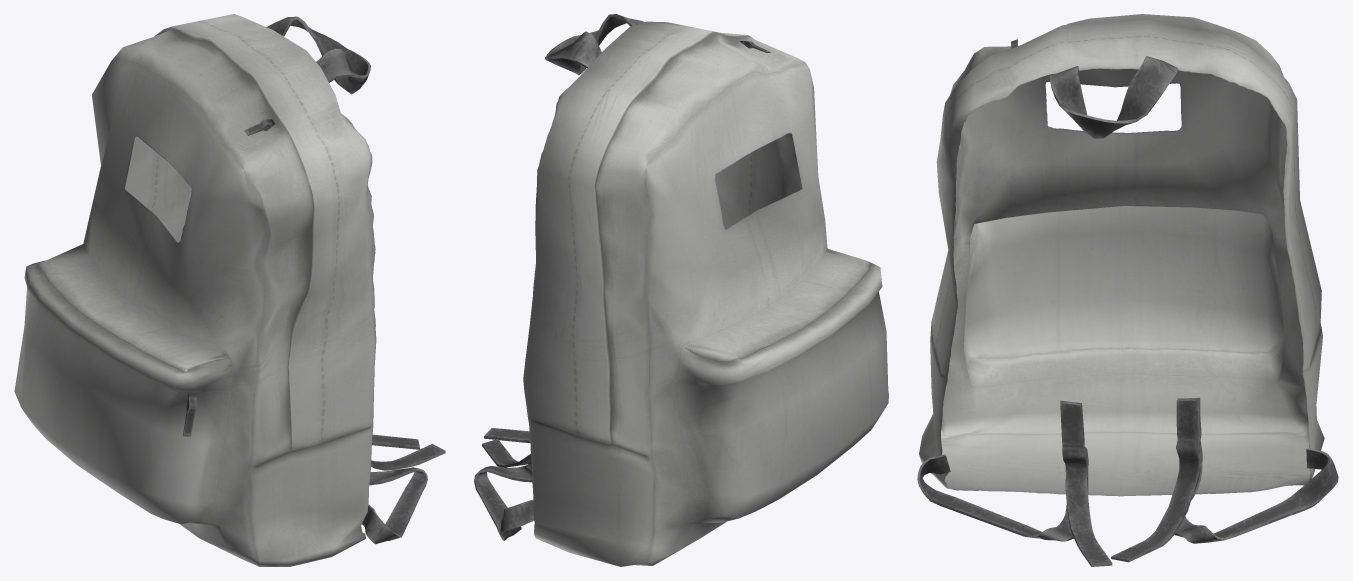
The model's file is SM_School_Backpack_01a.fbx.
The picture shows the model from 3 angles, left to right: view 1: azimuth 30°, elevation 25°; view 2: azimuth 150°, elevation 25°; view 3: azimuth 270°, elevation 25°; orthographic projection.
Parts seen in each view (by area): view 1: SM_School_Backpack_01a_LOD0; view 2: SM_School_Backpack_01a_LOD0; view 3: SM_School_Backpack_01a_LOD0.
Part boxes in pixels (box(x1,y1,x2,y2)): SM_School_Backpack_01a_LOD0: box(14, 14, 445, 566); SM_School_Backpack_01a_LOD0: box(474, 14, 888, 566); SM_School_Backpack_01a_LOD0: box(917, 14, 1338, 566).
Bounding box in the file's own units: 43.32 × 42.74 × 50.35.
Materials: 1 (1 with a texture image).
